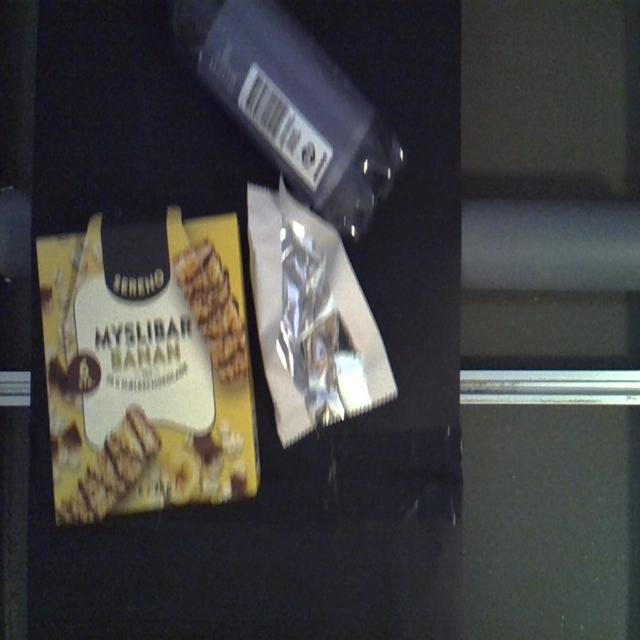bottle-plastic: (168, 1, 408, 242)
carton: (34, 202, 264, 530)
packaging-soft-plastic: (245, 174, 399, 448)
